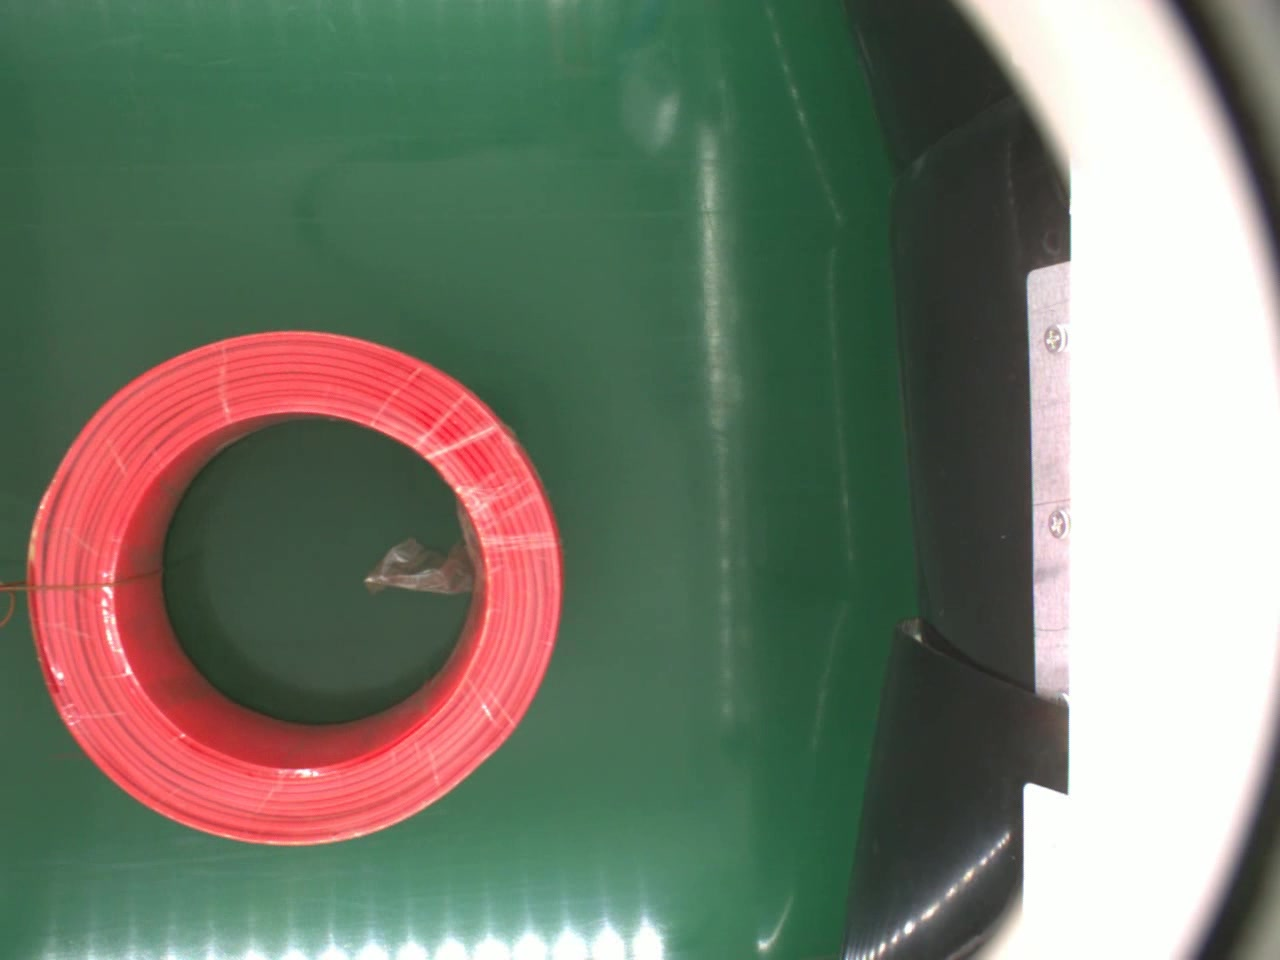red: (29, 326, 562, 849)
